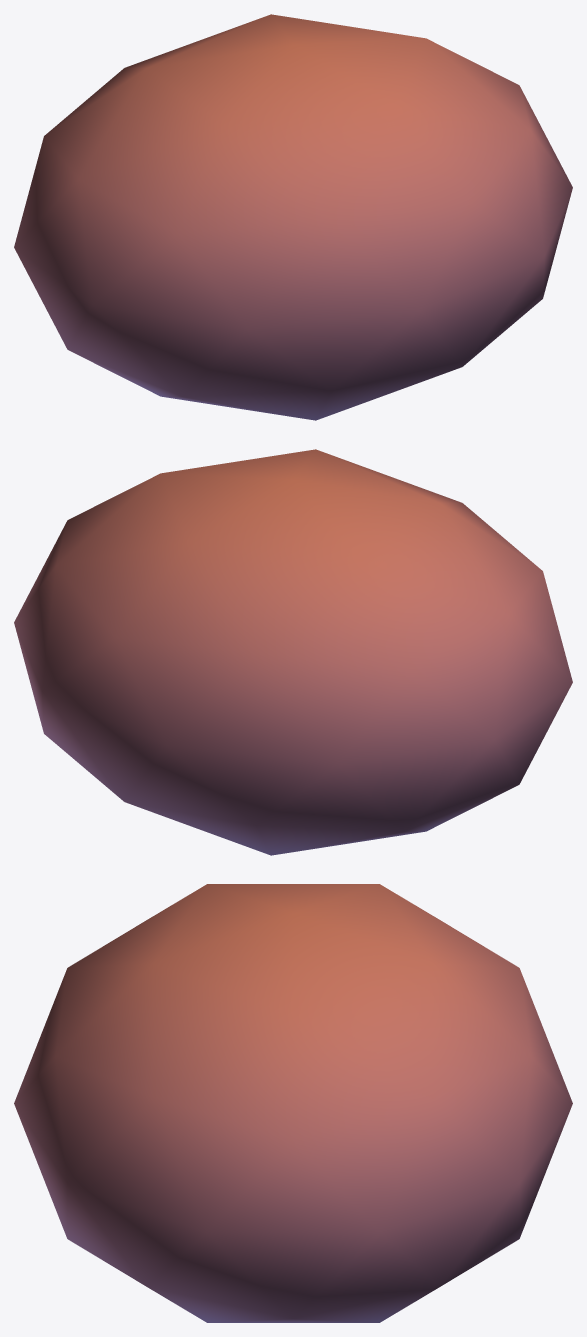
Rendered from vcol_probe.glb.
3 renders of one model, top to bottom at view 1: azimuth 30°, elevation 25°; view 2: azimuth 150°, elevation 25°; view 3: azimuth 270°, elevation 25°, orthographic. The views are drawn at different scales.
Parts seen in each view (by area): view 1: VcolProbe; view 2: VcolProbe; view 3: VcolProbe.
Boxes of the visible parts, box(x1,y1,x2,y2) form: VcolProbe: box(14, 14, 572, 420); VcolProbe: box(14, 449, 572, 855); VcolProbe: box(14, 884, 572, 1322).
Bounding box in the file's own units: 1.97 × 1.35 × 1.8.
